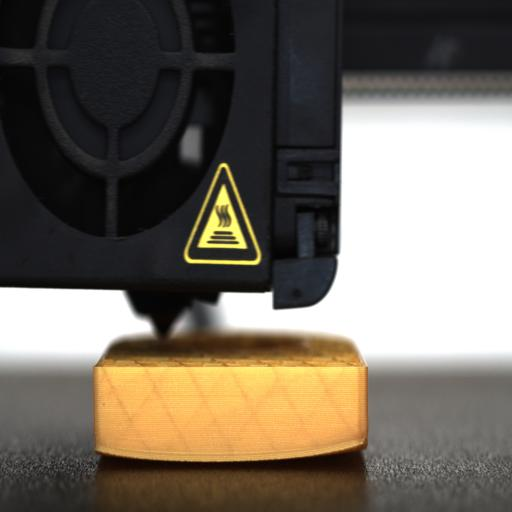warp: (324, 434, 369, 466), (93, 444, 133, 466)
